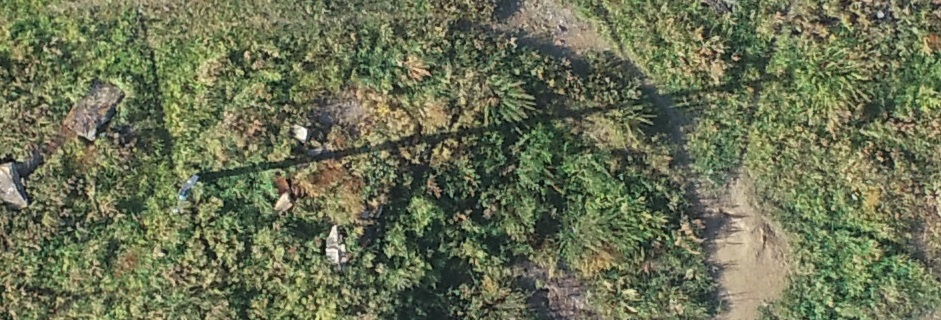opora: (178, 156, 299, 202)
